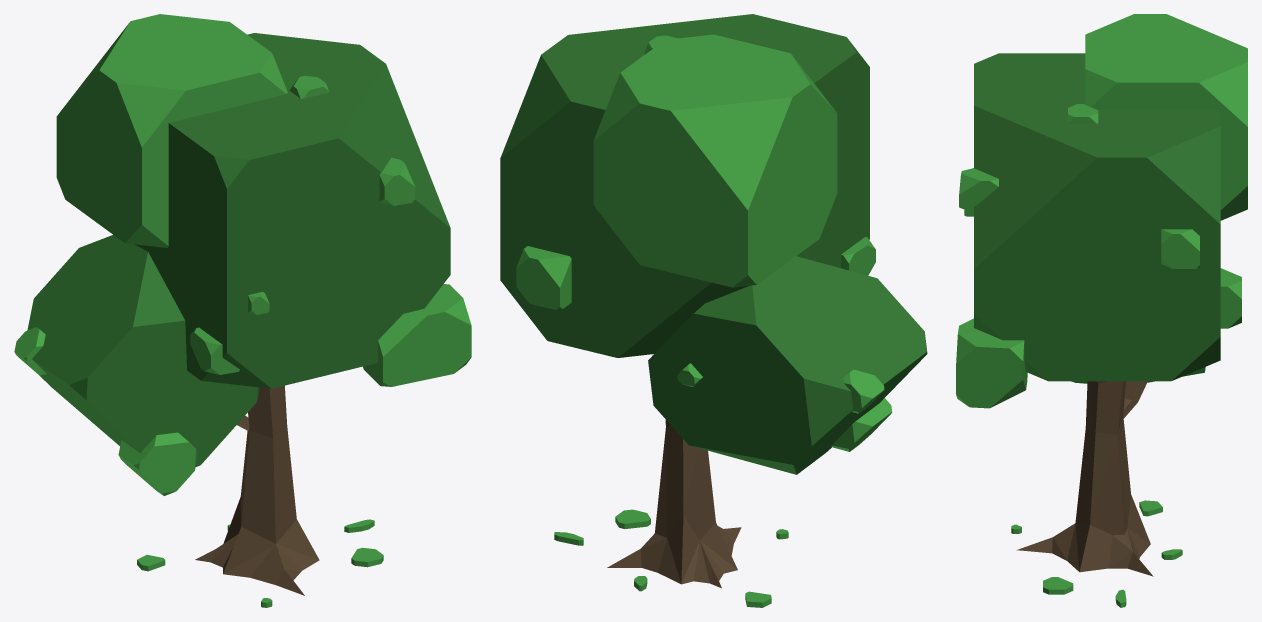
Rendered from Tree_E_01.FBX.
The picture shows the model from 3 angles, left to right: view 1: azimuth 30°, elevation 25°; view 2: azimuth 150°, elevation 25°; view 3: azimuth 270°, elevation 25°; orthographic projection. The views are drawn at different scales.
Visible parts, largest first — view 1: Tree_E_01; view 2: Tree_E_01; view 3: Tree_E_01.
Boxes of the visible parts, x1,y1,x2,y2 form: Tree_E_01: (14, 14, 471, 607); Tree_E_01: (500, 14, 927, 607); Tree_E_01: (956, 14, 1247, 607).
Size of the model in its own units: 3.58 by 4.85 by 2.69.
